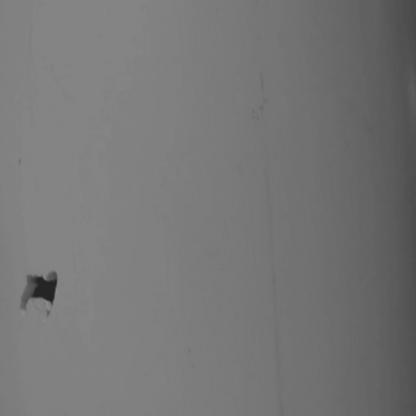kongdong: (10, 260, 67, 316)
